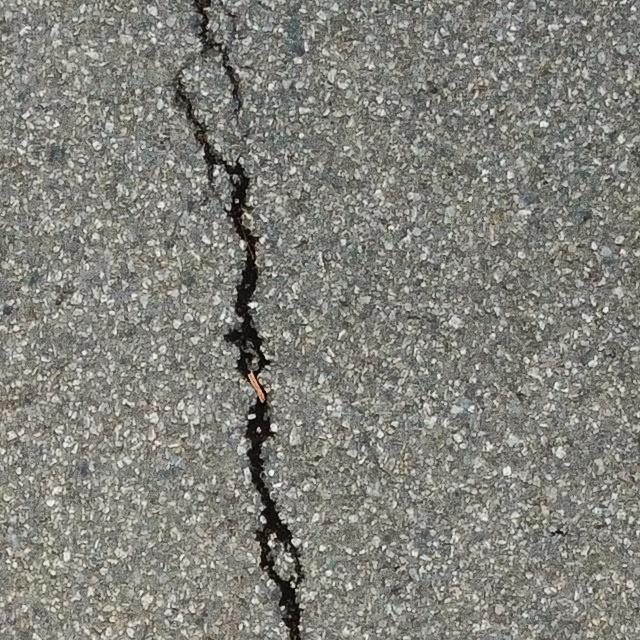LongitudinalCrack: (175, 1, 304, 640)
